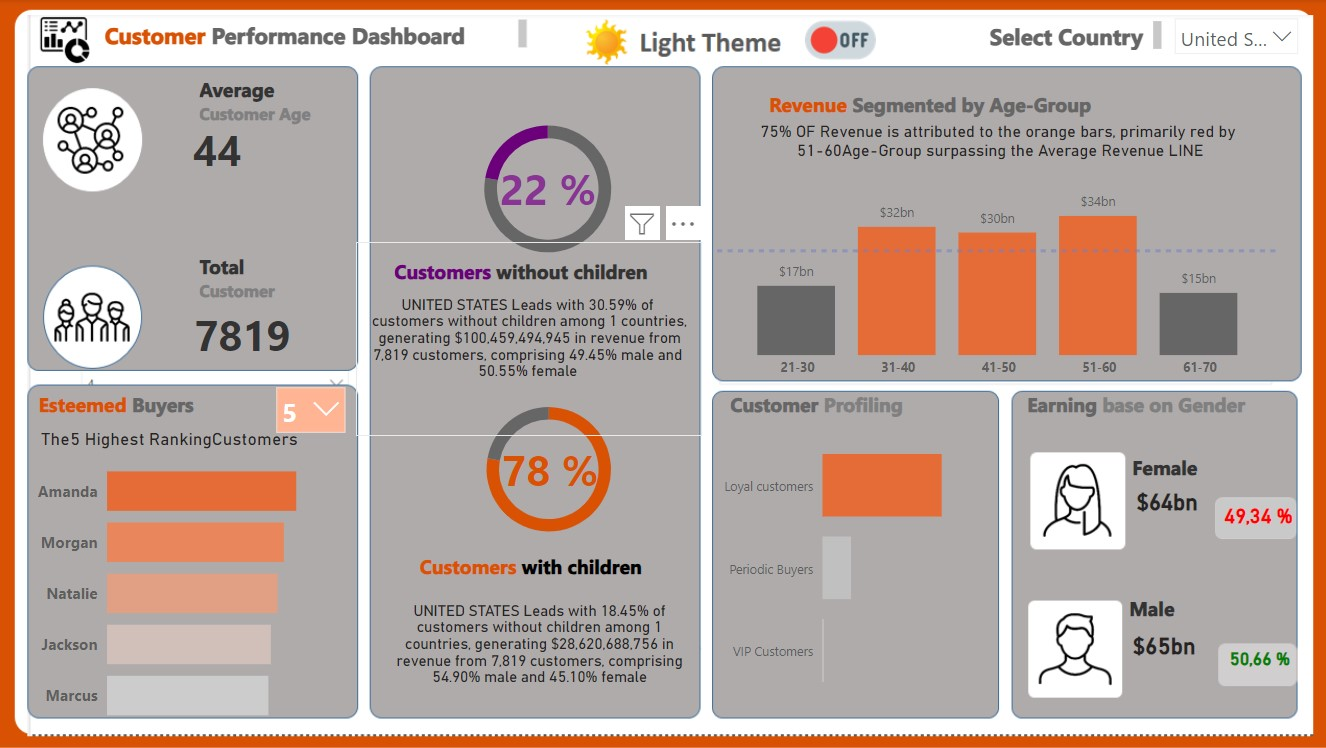

What the dashboard file says about the page in this screenshot:
{"tool":"powerbi","page":{"name":"Light","canvas":[1280,720],"ordinal":0},"visuals":[{"type":"clusteredColumnChart","fields":{"Category":["DimCustomer.Age Categorie"],"Y":["All Measures.Total Revenue","All Measures.Total Revenue"]},"box":[685.9,172.6,549.7,198.4],"z":0},{"type":"card","fields":{"Values":["Customer Measures.avg Caption"]},"box":[676.8,83.3,569.3,106],"z":1000},{"type":"donutChart","fields":{"Y":["Customer Measures.% CWC","Customer Measures.% C without children"]},"box":[427,99.9,202.9,162],"z":2000},{"type":"donutChart","fields":{"Y":["Customer Measures.% CWC","Customer Measures.% C without children"]},"box":[422.5,371,213.5,159],"z":3000},{"type":"card","fields":{"Values":["Customer Measures.% C without children"]},"box":[452.7,121.1,151.4,121.1],"z":4000},{"type":"card","fields":{"Values":["Customer Measures.% CWC"]},"box":[457.3,390.7,146.9,119.6],"z":5000},{"type":"textbox","box":[377,242.3,271,36.3],"z":6000},{"type":"textbox","box":[401.3,525.4,234.7,36.3],"z":7000},{"type":"card","fields":{"Values":["Customer Measures.Caption Customers Without Children"]},"box":[345.2,233.2,331.6,184.7],"z":8000},{"type":"card","fields":{"Values":["Customer Measures.Caption Customers With Children"]},"box":[357.4,525.4,328.6,184.7],"z":9000},{"type":"clusteredBarChart","fields":{"Category":["DimCustomer.FirstName"],"Y":["Customer Measures.Dynamic customers"]},"box":[33.3,419.4,343.7,292.2],"z":10000},{"type":"clusteredBarChart","fields":{"Category":["DimCustomer.Customer Type"],"Y":["All Measures.Total Revenue"]},"box":[685.9,390.7,275.6,302.8],"z":11000},{"type":"slicer","fields":{"Values":["Dynamic Customers.Dynamic Customers"]},"box":[258.9,361.9,86.3,57.5],"z":12000},{"type":"card","fields":{"Values":["Customer Measures.%Male"]},"box":[1164.4,604.2,92.4,57.5],"z":13000},{"type":"card","fields":{"Values":["Customer Measures.%Female"]},"box":[1169,480,81.8,30.3],"z":14000},{"type":"card","fields":{"Values":["Customer Measures.Average Customers Age"]},"box":[163.5,104.5,95.4,77.2],"z":15000},{"type":"card","fields":{"Values":["Customer Measures.#Customers"]},"box":[168.1,281.6,134.8,78.7],"z":16000},{"type":"textbox","box":[189.3,69.7,134.8,66.6],"z":17000},{"type":"textbox","box":[189.3,239.2,124.2,66.6],"z":18000},{"type":"textbox","box":[1084.2,431.5,134.8,37.9],"z":19000},{"type":"textbox","box":[1081.1,566.3,134.8,37.9],"z":20000},{"type":"textbox","box":[735.9,83.3,340.7,37.9],"z":21000},{"type":"textbox","box":[36.3,371,168.1,37.9],"z":22000},{"type":"card","fields":{"Values":["Customer Measures.Title Top Customers"]},"box":[33.3,398.2,269.5,66.6],"z":23000},{"type":"textbox","box":[982.7,371,228.6,37.9],"z":24000},{"type":"card","fields":{"Values":["Customer Measures.Female Revenue"]},"box":[1079.6,449.7,84.8,62.1],"z":25000},{"type":"card","fields":{"Values":["Customer Measures.Male Revenue"]},"box":[1076.6,587.5,84.8,62.1],"z":26000},{"type":"textbox","box":[99.1,14.6,414,37.9],"z":27000},{"type":"slicer","fields":{"Values":["DimGeography.Country"]},"box":[1119,9.1,137.8,60.6],"z":28000},{"type":"textbox","box":[941.8,15.1,180.2,37.9],"z":29000},{"type":"textbox","box":[698,371,209,37.9],"z":30000},{"type":"actionButton","box":[777,19,68.5,39.4],"z":30001}]}

Visuals, with their boxes in screenshot pixels (x1, y1, x2, y2), scaled from the page's 1280x720 canvas onto the 1326x748 screenshot:
clusteredColumnChart - DimCustomer.Age Categorie x All Measures.Total Revenue: x1=711, y1=179, x2=1280, y2=385
card - Customer Measures.avg Caption: x1=701, y1=87, x2=1291, y2=197
donutChart - Customer Measures.% CWC x Customer Measures.% C without children: x1=442, y1=104, x2=653, y2=272
donutChart - Customer Measures.% CWC x Customer Measures.% C without children: x1=438, y1=385, x2=659, y2=551
card - Customer Measures.% C without children: x1=469, y1=126, x2=626, y2=252
card - Customer Measures.% CWC: x1=474, y1=406, x2=626, y2=530
textbox: x1=391, y1=252, x2=671, y2=289
textbox: x1=416, y1=546, x2=659, y2=584
card - Customer Measures.Caption Customers Without Children: x1=358, y1=242, x2=701, y2=434
card - Customer Measures.Caption Customers With Children: x1=370, y1=546, x2=711, y2=738
clusteredBarChart - DimCustomer.FirstName x Customer Measures.Dynamic customers: x1=34, y1=436, x2=391, y2=739
clusteredBarChart - DimCustomer.Customer Type x All Measures.Total Revenue: x1=711, y1=406, x2=996, y2=720
slicer - Dynamic Customers.Dynamic Customers: x1=268, y1=376, x2=358, y2=436
card - Customer Measures.%Male: x1=1206, y1=628, x2=1302, y2=687
card - Customer Measures.%Female: x1=1211, y1=499, x2=1296, y2=530
card - Customer Measures.Average Customers Age: x1=169, y1=109, x2=268, y2=189
card - Customer Measures.#Customers: x1=174, y1=293, x2=314, y2=374
textbox: x1=196, y1=72, x2=336, y2=142
textbox: x1=196, y1=249, x2=325, y2=318
textbox: x1=1123, y1=448, x2=1263, y2=488
textbox: x1=1120, y1=588, x2=1260, y2=628
textbox: x1=762, y1=87, x2=1115, y2=126
textbox: x1=38, y1=385, x2=212, y2=425
card - Customer Measures.Title Top Customers: x1=34, y1=414, x2=314, y2=483
textbox: x1=1018, y1=385, x2=1255, y2=425
card - Customer Measures.Female Revenue: x1=1118, y1=467, x2=1206, y2=532
card - Customer Measures.Male Revenue: x1=1115, y1=610, x2=1203, y2=675
textbox: x1=103, y1=15, x2=532, y2=55
slicer - DimGeography.Country: x1=1159, y1=9, x2=1302, y2=72
textbox: x1=976, y1=16, x2=1162, y2=55
textbox: x1=723, y1=385, x2=940, y2=425
actionButton: x1=805, y1=20, x2=876, y2=61
